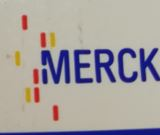Merck: (14, 14, 160, 123)
